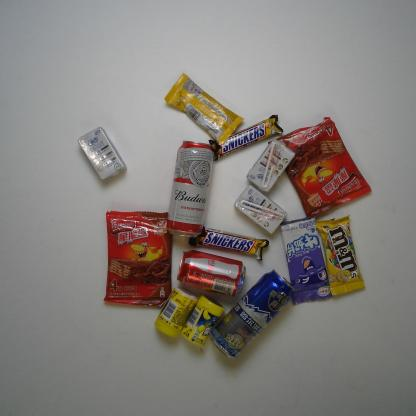Alcohol: (209, 267, 296, 360), (165, 139, 216, 239)
Candy: (279, 215, 333, 306)
Chocolate: (163, 72, 245, 146), (316, 214, 366, 296), (208, 113, 284, 162), (187, 226, 271, 262)
Dessert: (268, 116, 372, 219), (102, 209, 174, 308)
Drink: (176, 249, 248, 298)
Gum: (180, 292, 227, 349), (153, 286, 199, 340)
Milk: (233, 184, 289, 236), (77, 126, 128, 183), (246, 139, 296, 194)
